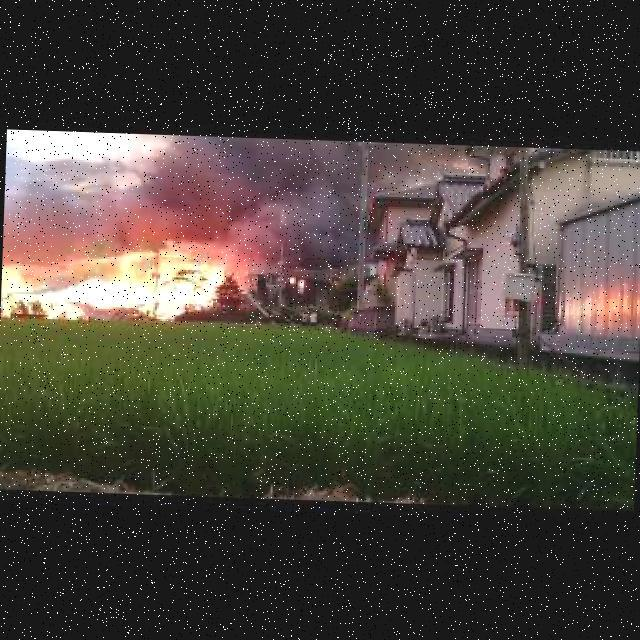Fire: (2, 237, 233, 321)
Smoke: (4, 127, 376, 268)
